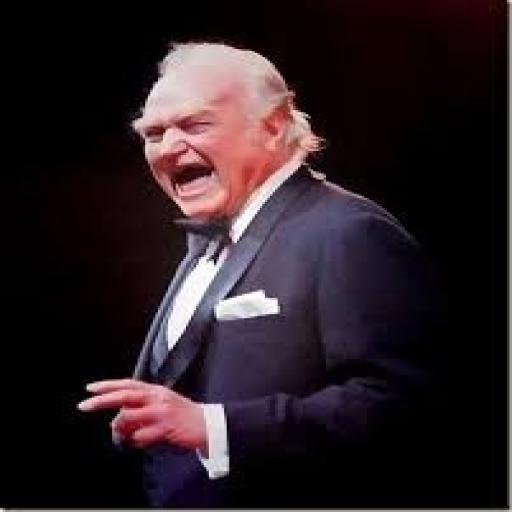laughing: (64, 28, 446, 500)
